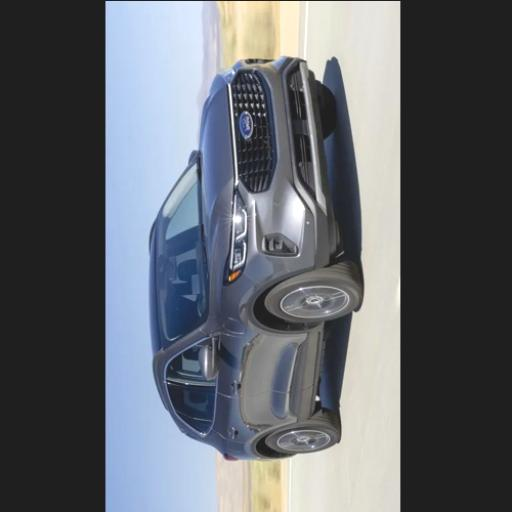suv: (148, 55, 360, 458)
